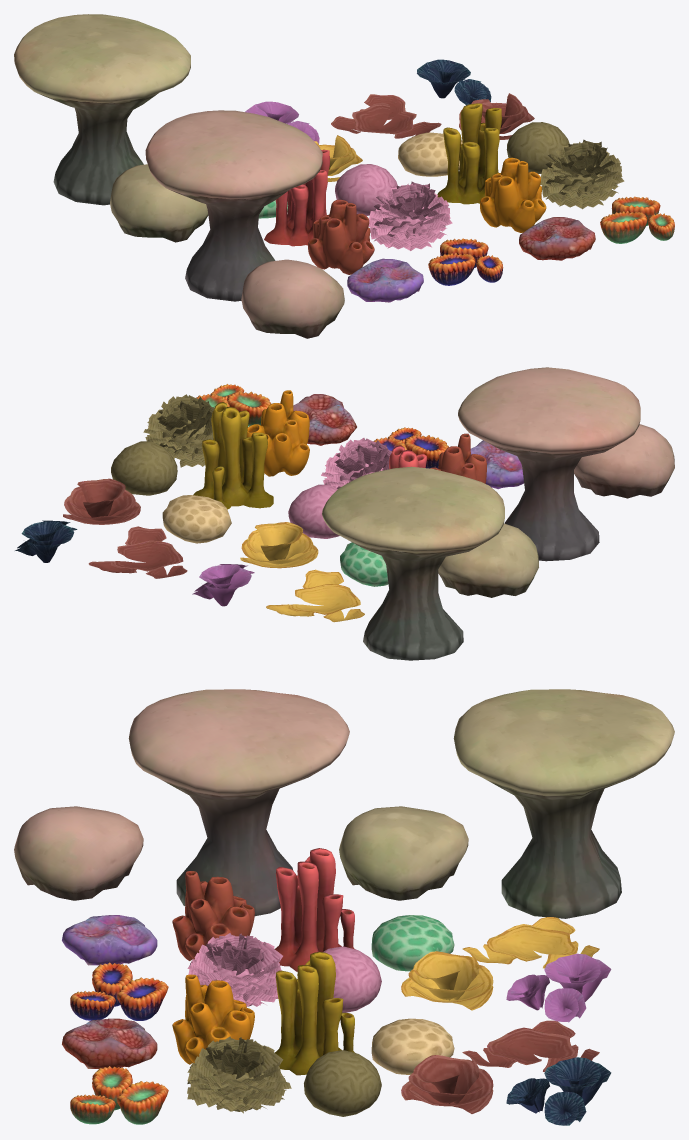
The model's file is coral-soft.glb.
3 renders of one model, top to bottom at view 1: azimuth 30°, elevation 25°; view 2: azimuth 150°, elevation 25°; view 3: azimuth 270°, elevation 25°, orthographic. The views are drawn at different scales.
Parts seen in each view (by area): view 1: coral01_M_coral_0, Coral02_low_M_coral_02_0, Coral02_low1_M_coral_03_0, coral19_M_coral_01_0; view 2: coral01_M_coral_0, Coral02_low1_M_coral_03_0, Coral02_low_M_coral_02_0, coral19_M_coral_01_0; view 3: coral01_M_coral_0, coral19_M_coral_01_0, Coral02_low1_M_coral_03_0, Coral02_low_M_coral_02_0.
Boxes of the visible parts, x1=… form: coral01_M_coral_0: x1=331, y1=59, x2=674, y2=260; Coral02_low_M_coral_02_0: x1=145, y1=110, x2=344, y2=338; Coral02_low1_M_coral_03_0: x1=14, y1=14, x2=208, y2=242; coral19_M_coral_01_0: x1=245, y1=101, x2=503, y2=302; coral01_M_coral_0: x1=15, y1=384, x2=356, y2=578; Coral02_low1_M_coral_03_0: x1=322, y1=466, x2=538, y2=660; Coral02_low_M_coral_02_0: x1=458, y1=367, x2=674, y2=561; coral19_M_coral_01_0: x1=192, y1=427, x2=523, y2=622; coral01_M_coral_0: x1=62, y1=951, x2=611, y2=1125; coral19_M_coral_01_0: x1=62, y1=848, x2=611, y2=1022; Coral02_low1_M_coral_03_0: x1=339, y1=689, x2=674, y2=918; Coral02_low_M_coral_02_0: x1=14, y1=689, x2=349, y2=916.
Size of the model in its own units: 0.259 by 0.0827 by 0.259.
4 materials, 4 textured.
